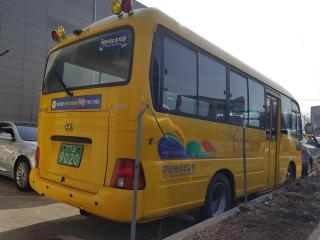0: (73, 155, 79, 165), (64, 153, 69, 164)
2: (69, 154, 74, 164)
7: (64, 144, 68, 152), (68, 144, 72, 152)
9: (59, 152, 64, 162)
보: (72, 145, 77, 154)
